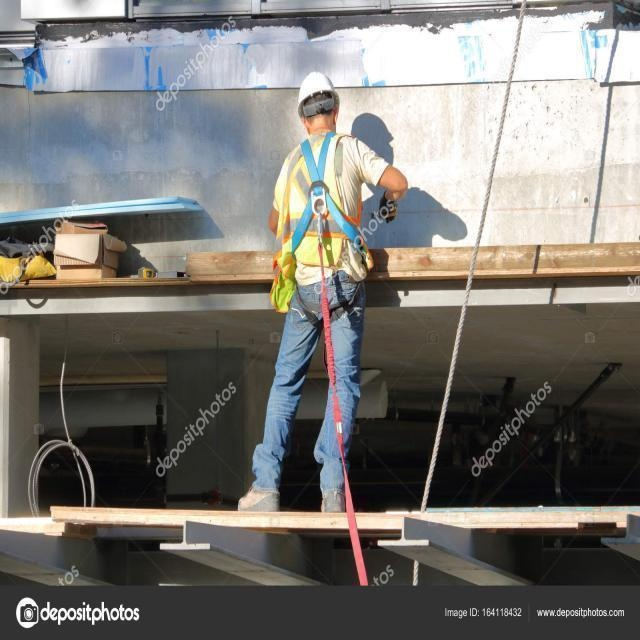Arnes_seguridad: (289, 136, 365, 277)
